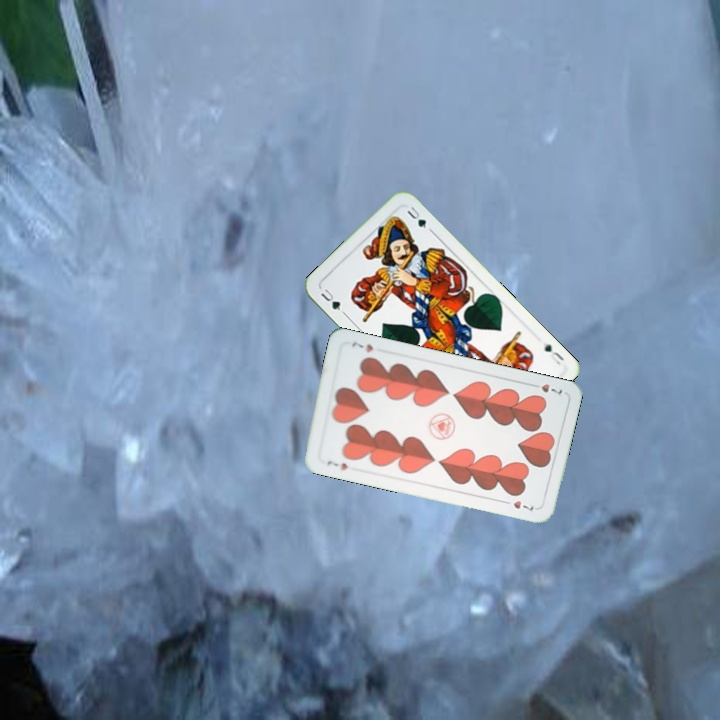GU: (316, 285, 348, 317), (540, 340, 567, 367)
H7: (526, 380, 565, 397), (323, 456, 350, 473)
